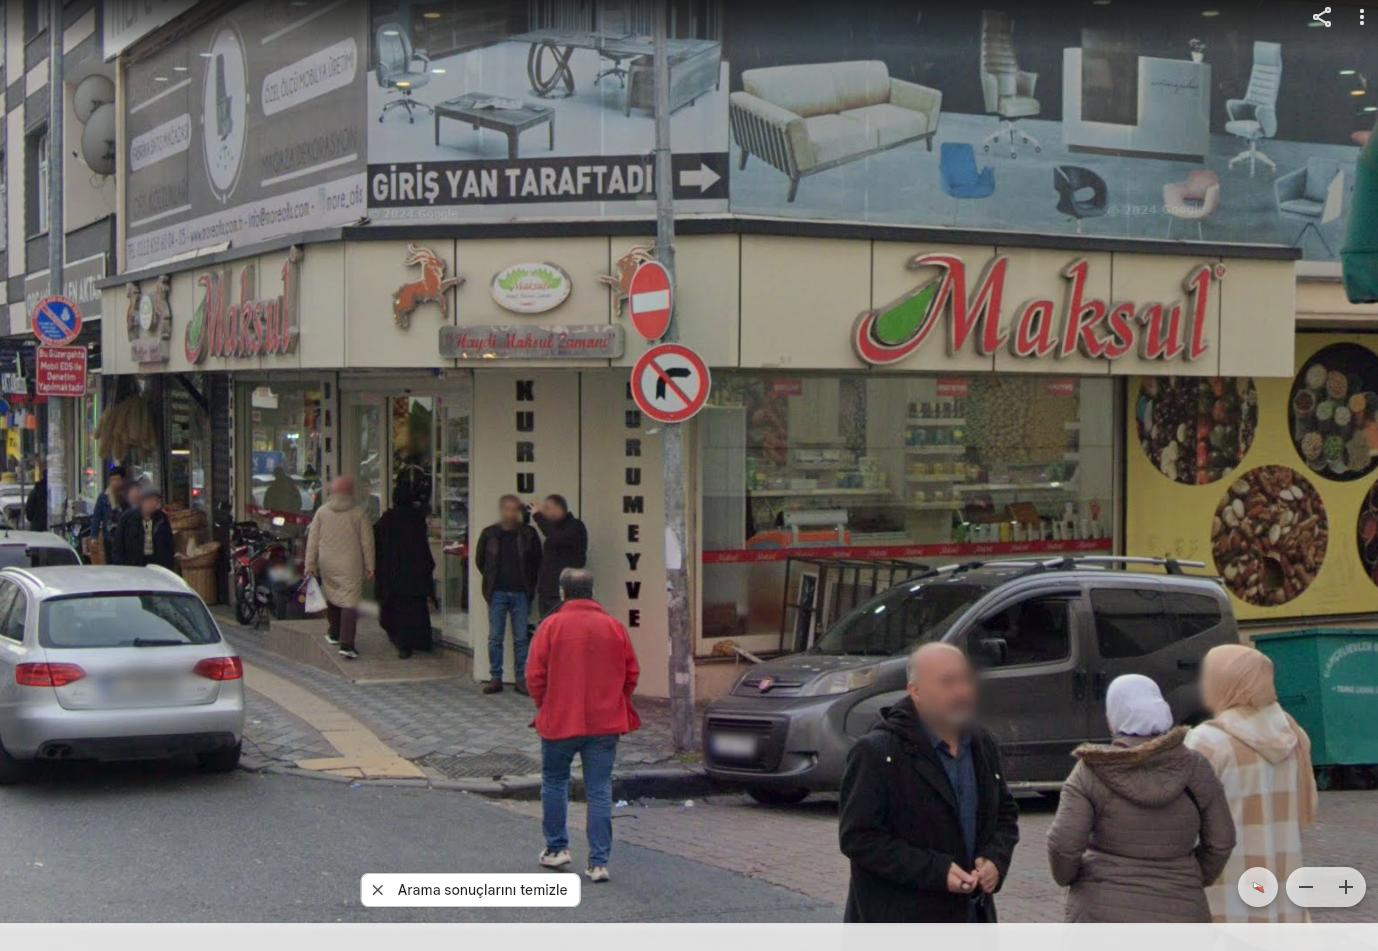rightturnsareforbidden: (637, 345, 709, 421)
